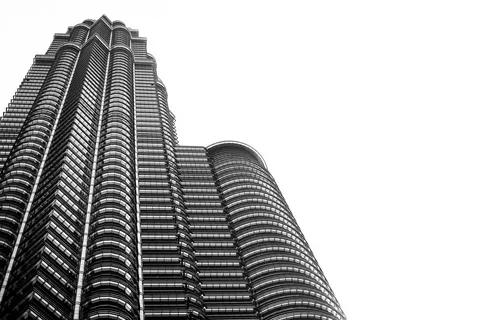high_rise_building: (44, 10, 201, 314)
